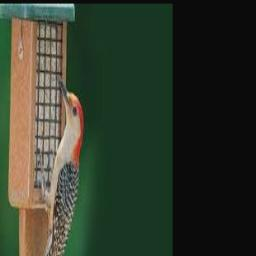Woodpecker: (29, 75, 83, 256)
